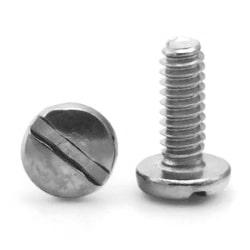slotted: (21, 104, 116, 203)
